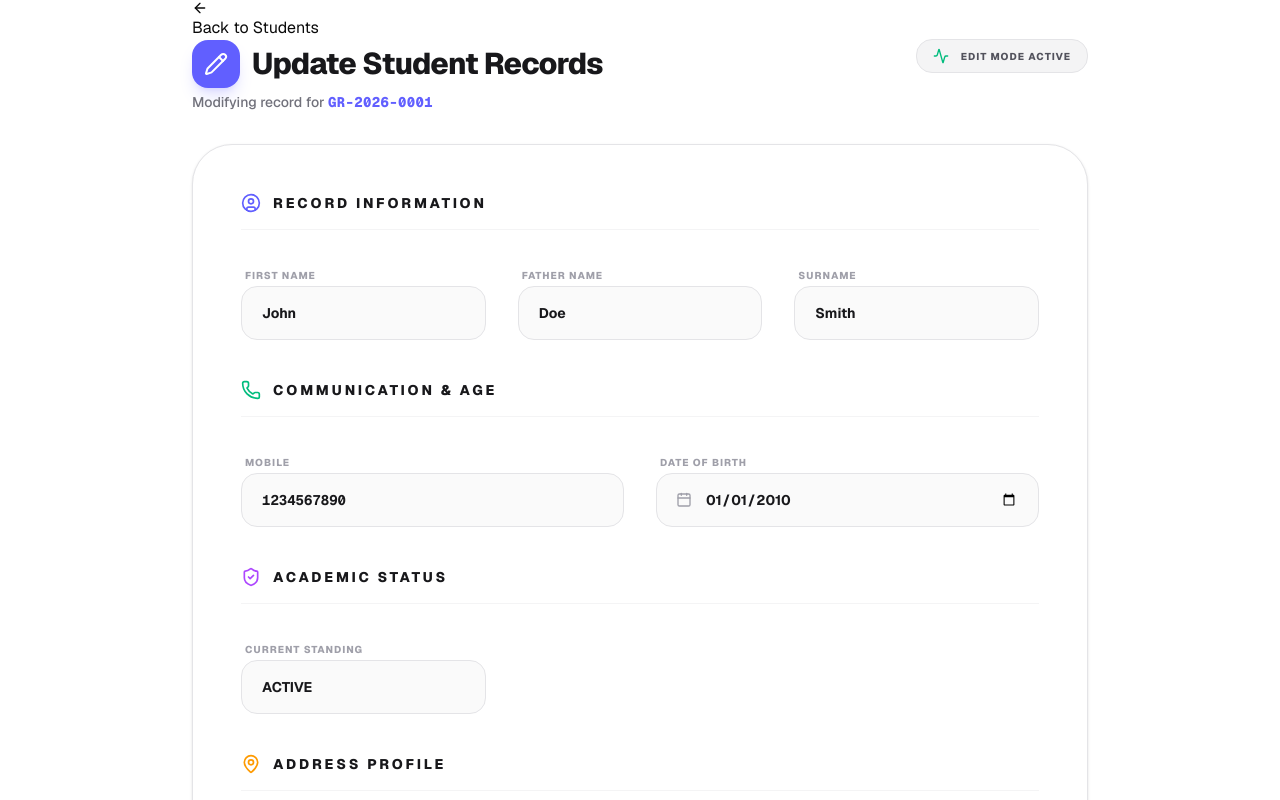
EditStudentPage › validates fields during edit
The image size is (1280, 800).
Clear the field showing "John" below "First Name" at (363, 313), box [241,286,486,340]
(page scrolled)
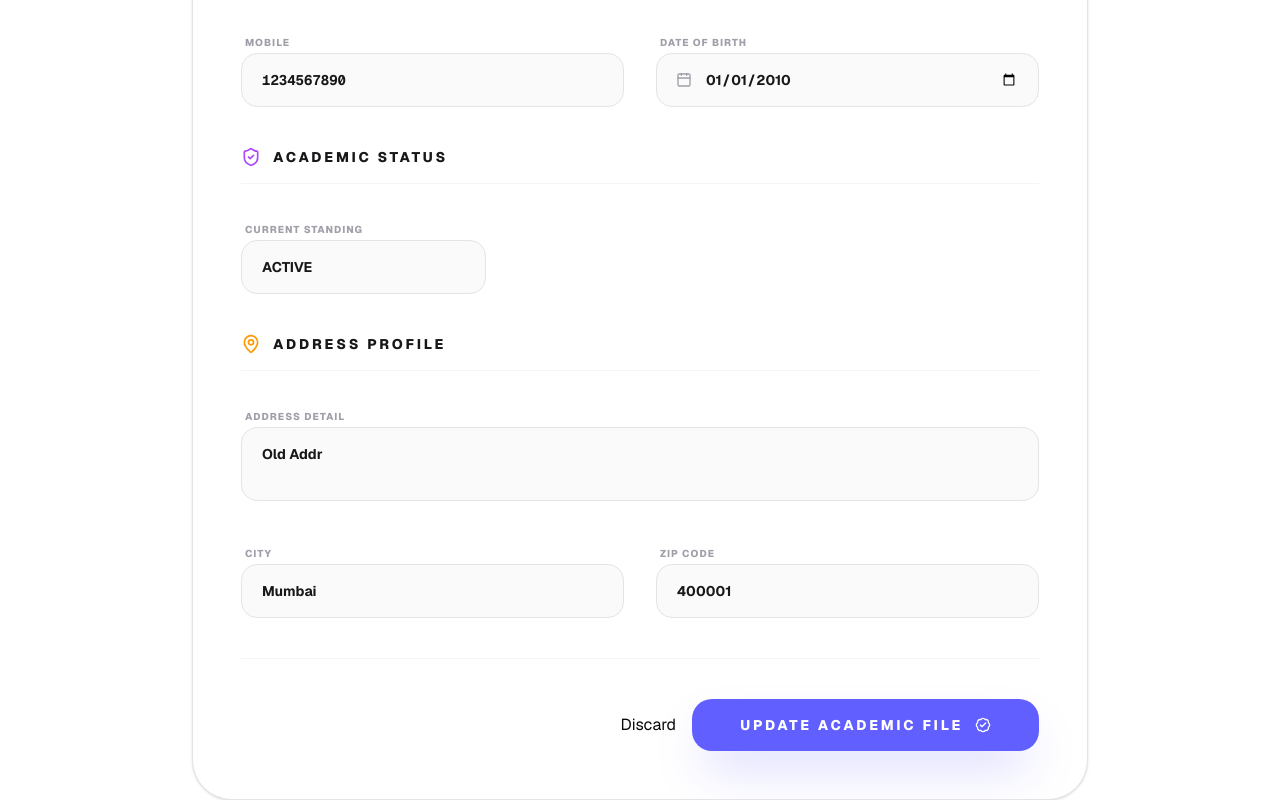
Click the button "Update Academic File" at (866, 725), box [692,699,1039,751]
(page scrolled)
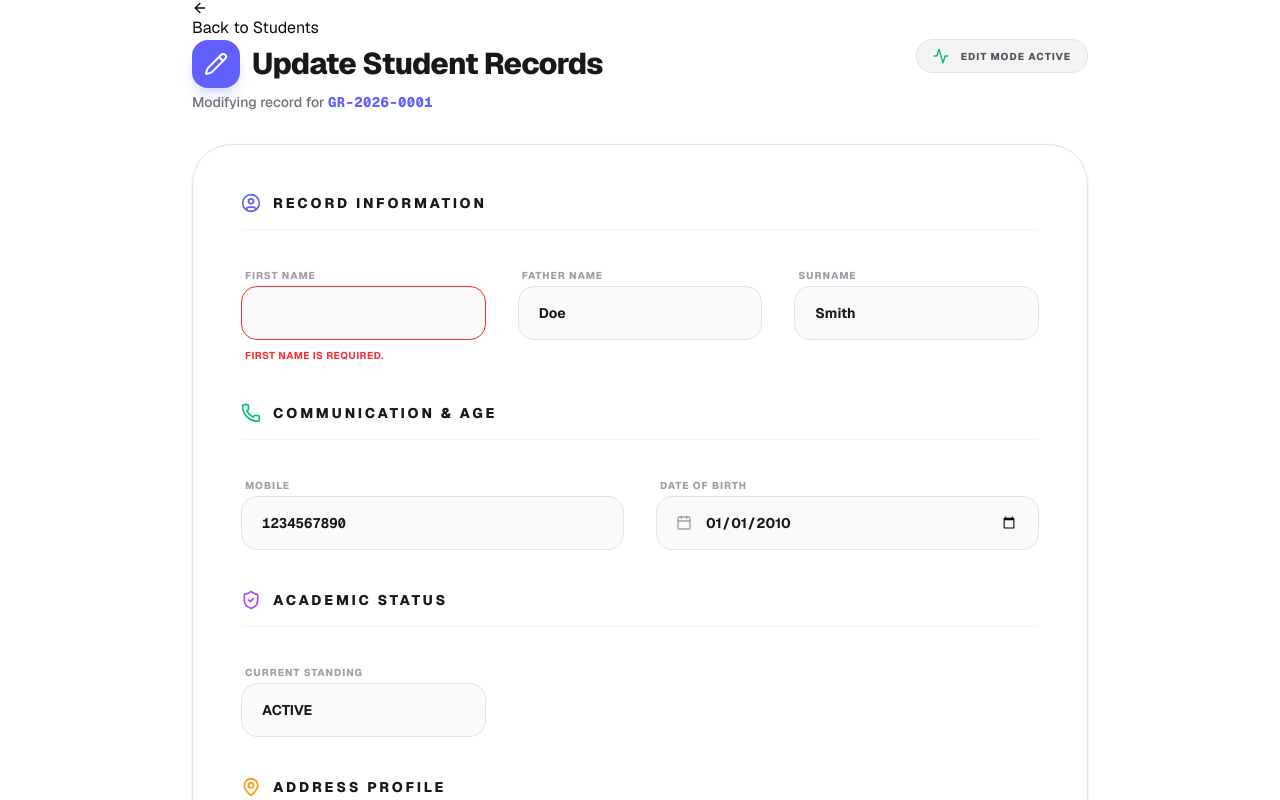
Result: the text "First name is required." is shown at [245,349,384,362]
